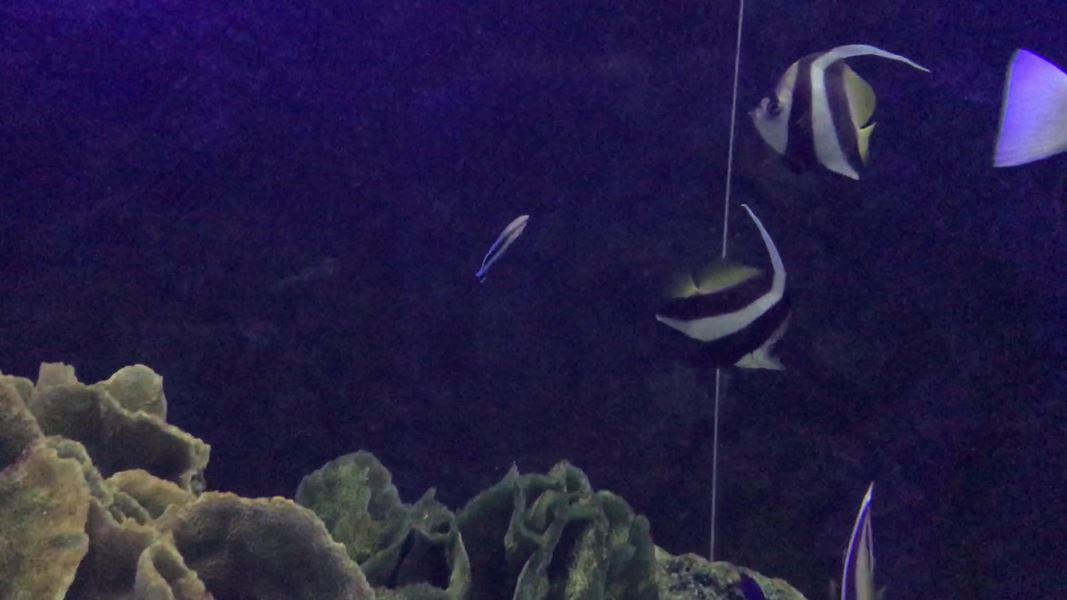Bluesteak cleaner wrasse: (467, 208, 538, 290)
